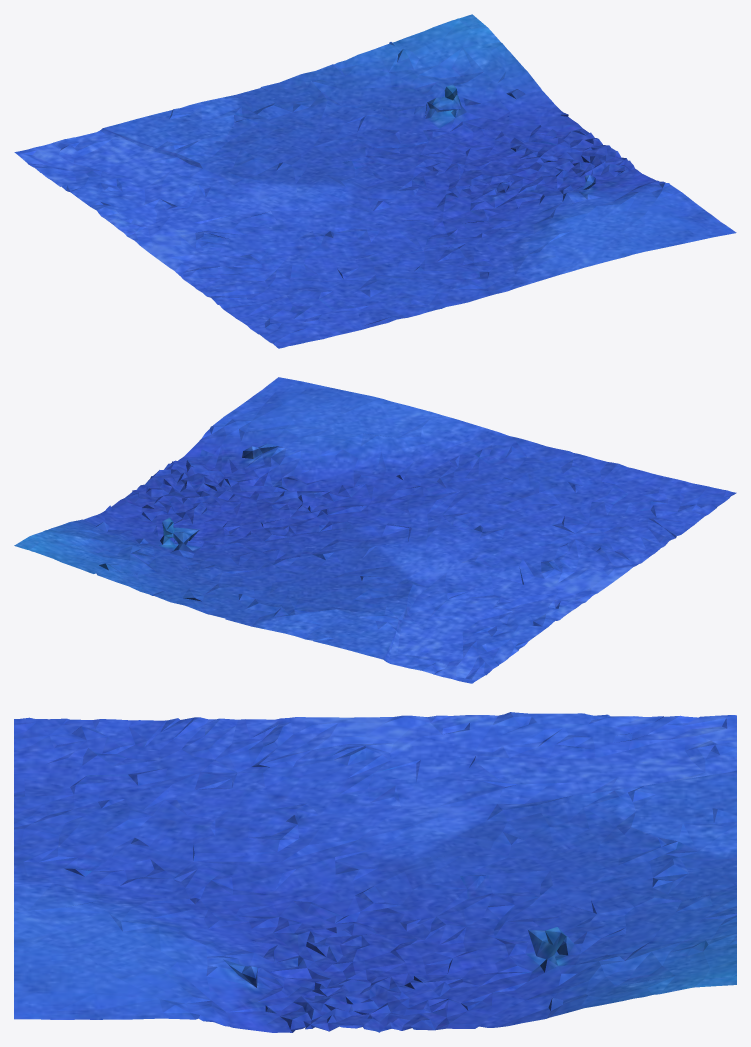
3 renders of one model, top to bottom at view 1: azimuth 30°, elevation 25°; view 2: azimuth 150°, elevation 25°; view 3: azimuth 270°, elevation 25°, orthographic. The views are drawn at different scales.
Size of the model in its own units: 13.06 by 0.9705 by 13.06.
3 materials, 3 textured.
